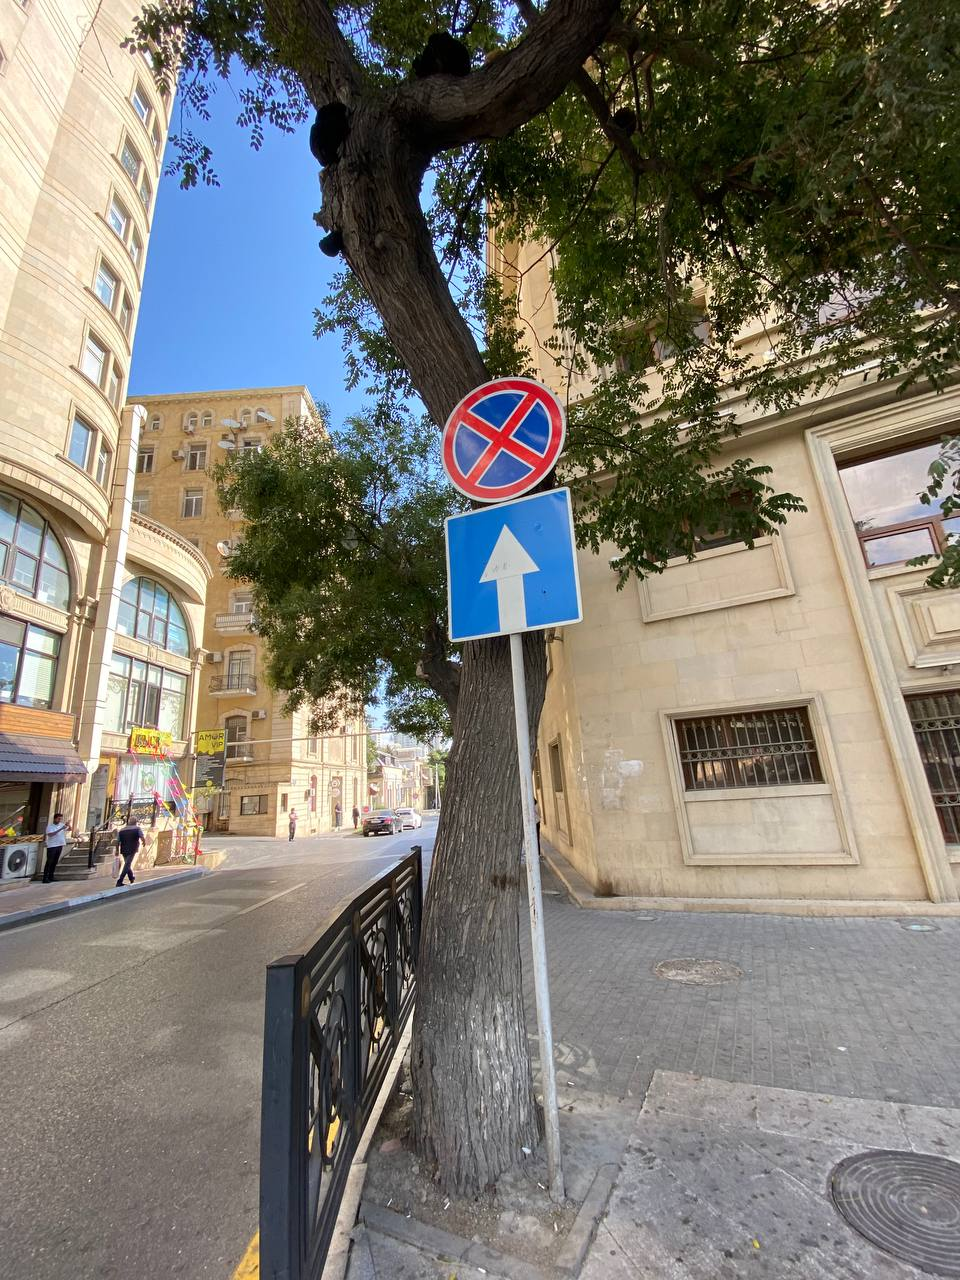No Parking: (441, 377, 566, 502)
